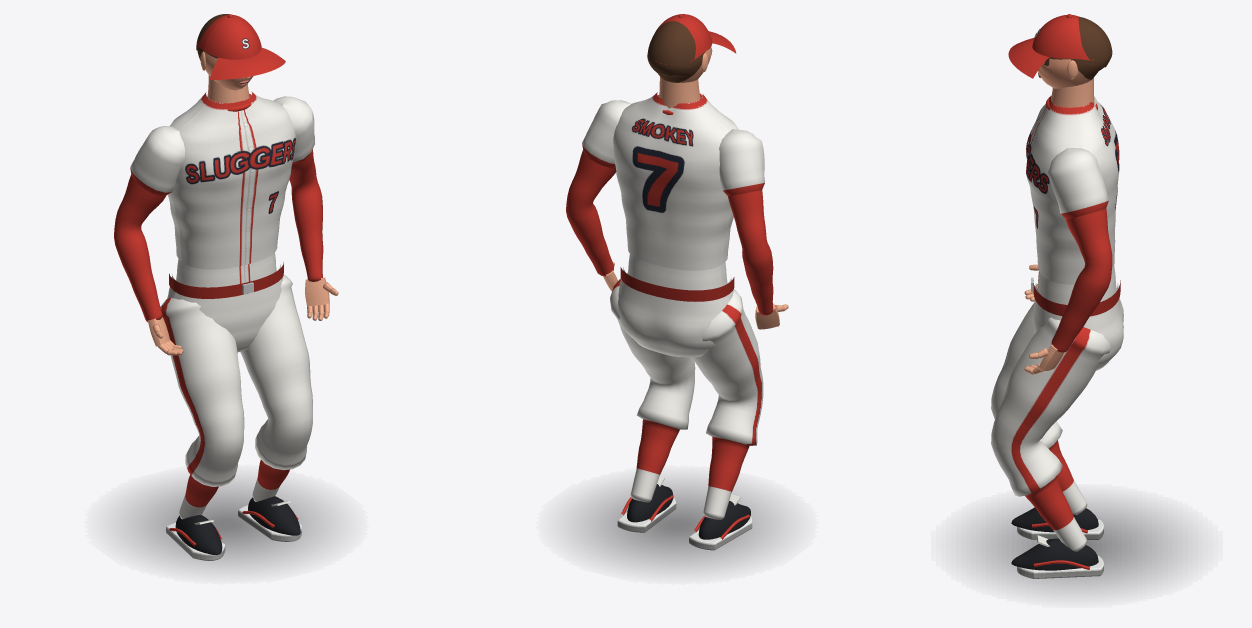
The model's file is player_24_home.glb.
3 renders of one model, left to right at view 1: azimuth 30°, elevation 25°; view 2: azimuth 150°, elevation 25°; view 3: azimuth 270°, elevation 25°, orthographic. The views are drawn at different scales.
Visible parts, largest first — view 1: player_24_home, object 30, object 32, object 2; view 2: player_24_home, object 29, object 2, object 30; view 3: player_24_home, object 30, object 29, object 34, object 32, object 2.
Boxes of the visible parts, box(x1,y1,x2,y2) form: player_24_home: box(114, 91, 334, 570); object 30: box(196, 14, 261, 59); object 32: box(209, 47, 285, 79); object 2: box(207, 75, 249, 103); player_24_home: box(566, 92, 785, 570); object 29: box(647, 21, 711, 76); object 2: box(659, 77, 700, 108); object 30: box(652, 14, 712, 64); player_24_home: box(966, 96, 1187, 592); object 30: box(1032, 14, 1112, 60); object 29: box(1049, 16, 1112, 67); object 34: box(1038, 58, 1103, 88); object 32: box(1008, 37, 1049, 78); object 2: box(1051, 77, 1094, 107).
Bounding box in the file's own units: 3.5 × 6.47 × 3.5.
27 materials, 5 textured.
